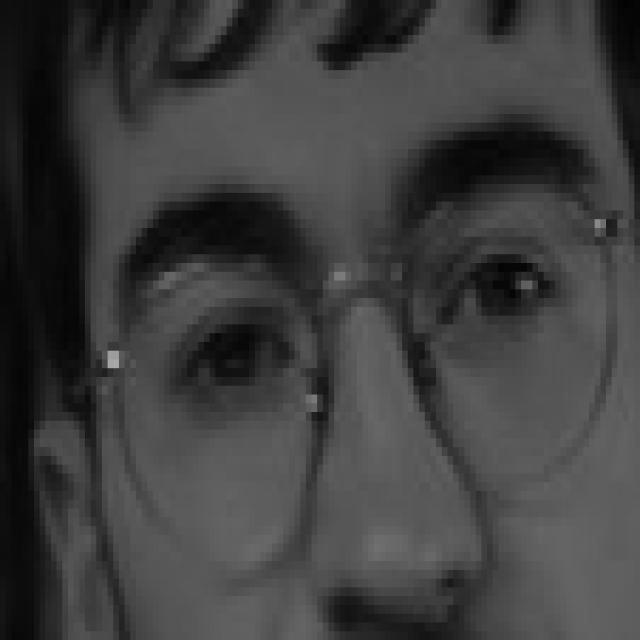real: (124, 194, 574, 440)
